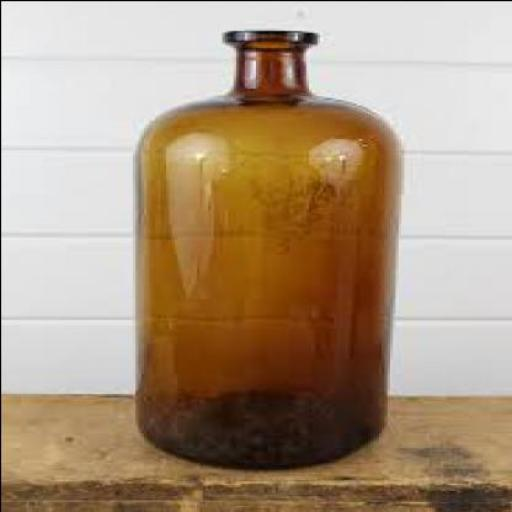glass: (137, 26, 406, 465)
